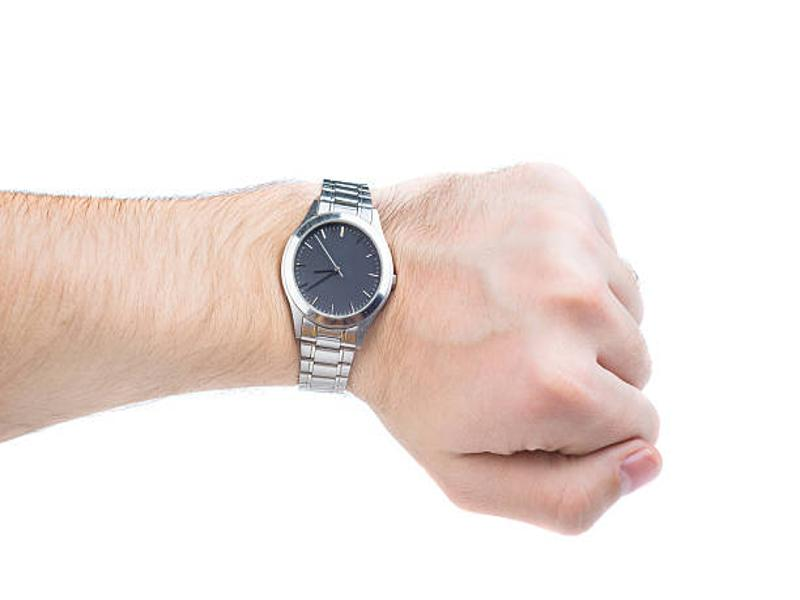watch: (281, 180, 398, 396)
